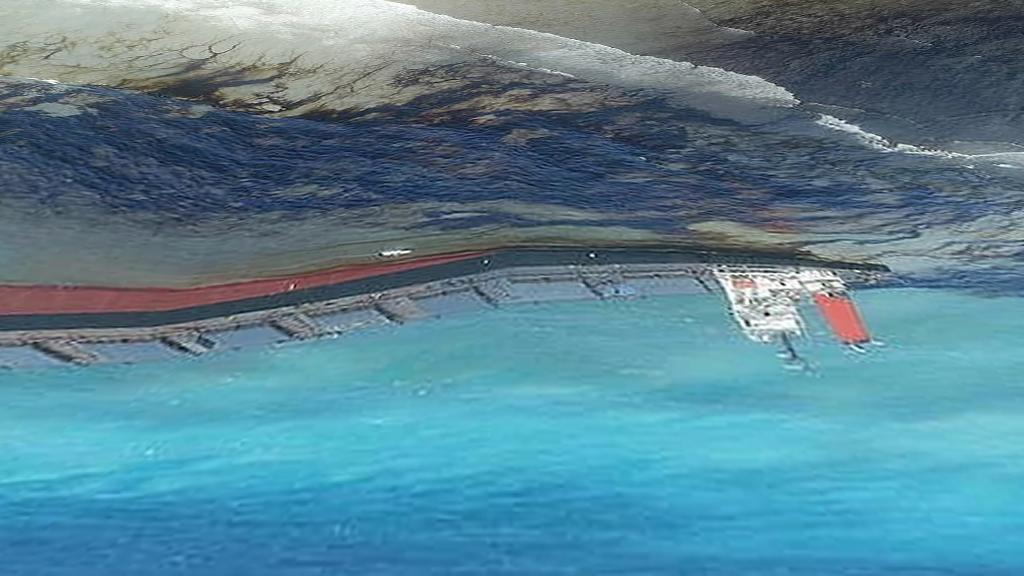Oil Pollution: (4, 0, 1022, 257)
